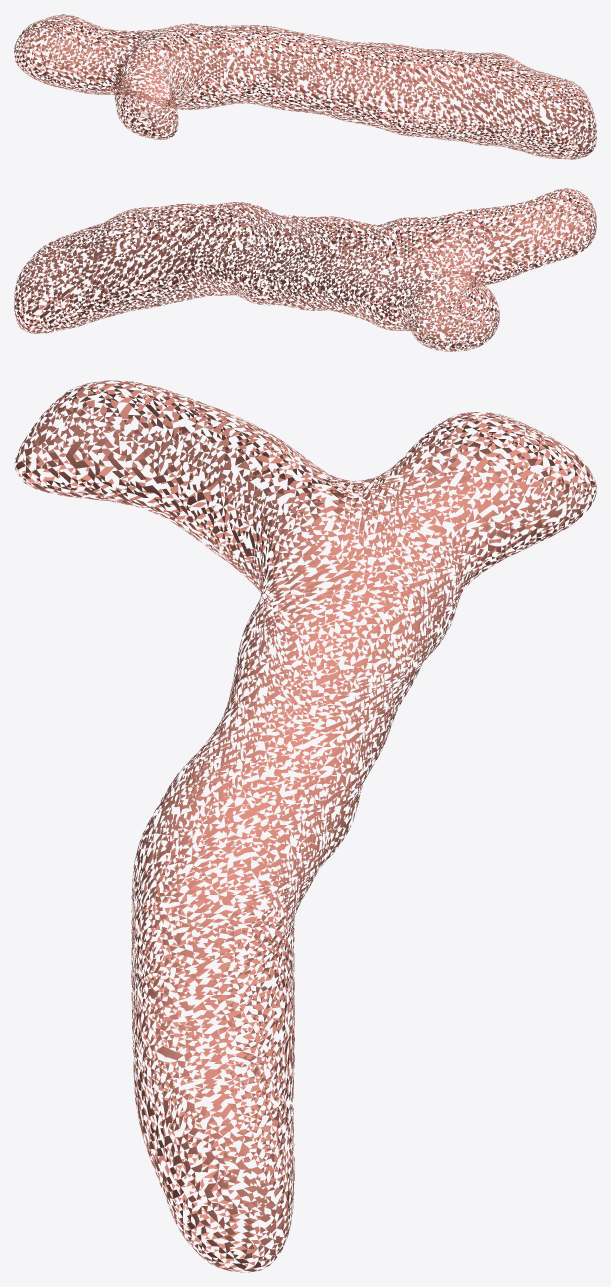
File: morph_002.glb
3 renders of one model, top to bottom at view 1: azimuth 30°, elevation 25°; view 2: azimuth 150°, elevation 25°; view 3: azimuth 270°, elevation 25°, orthographic. The views are drawn at different scales.
Bounding box in the file's own units: 106 × 43.63 × 52.71.
